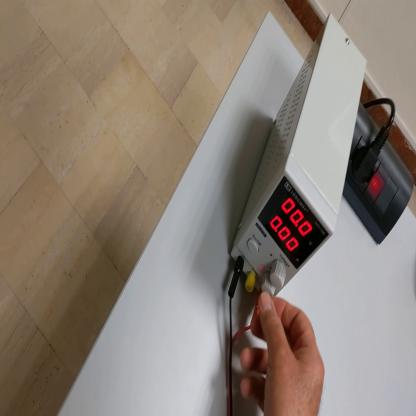hand: (235, 289, 325, 416)
power supply: (230, 16, 366, 300)
socket: (346, 100, 416, 248)
